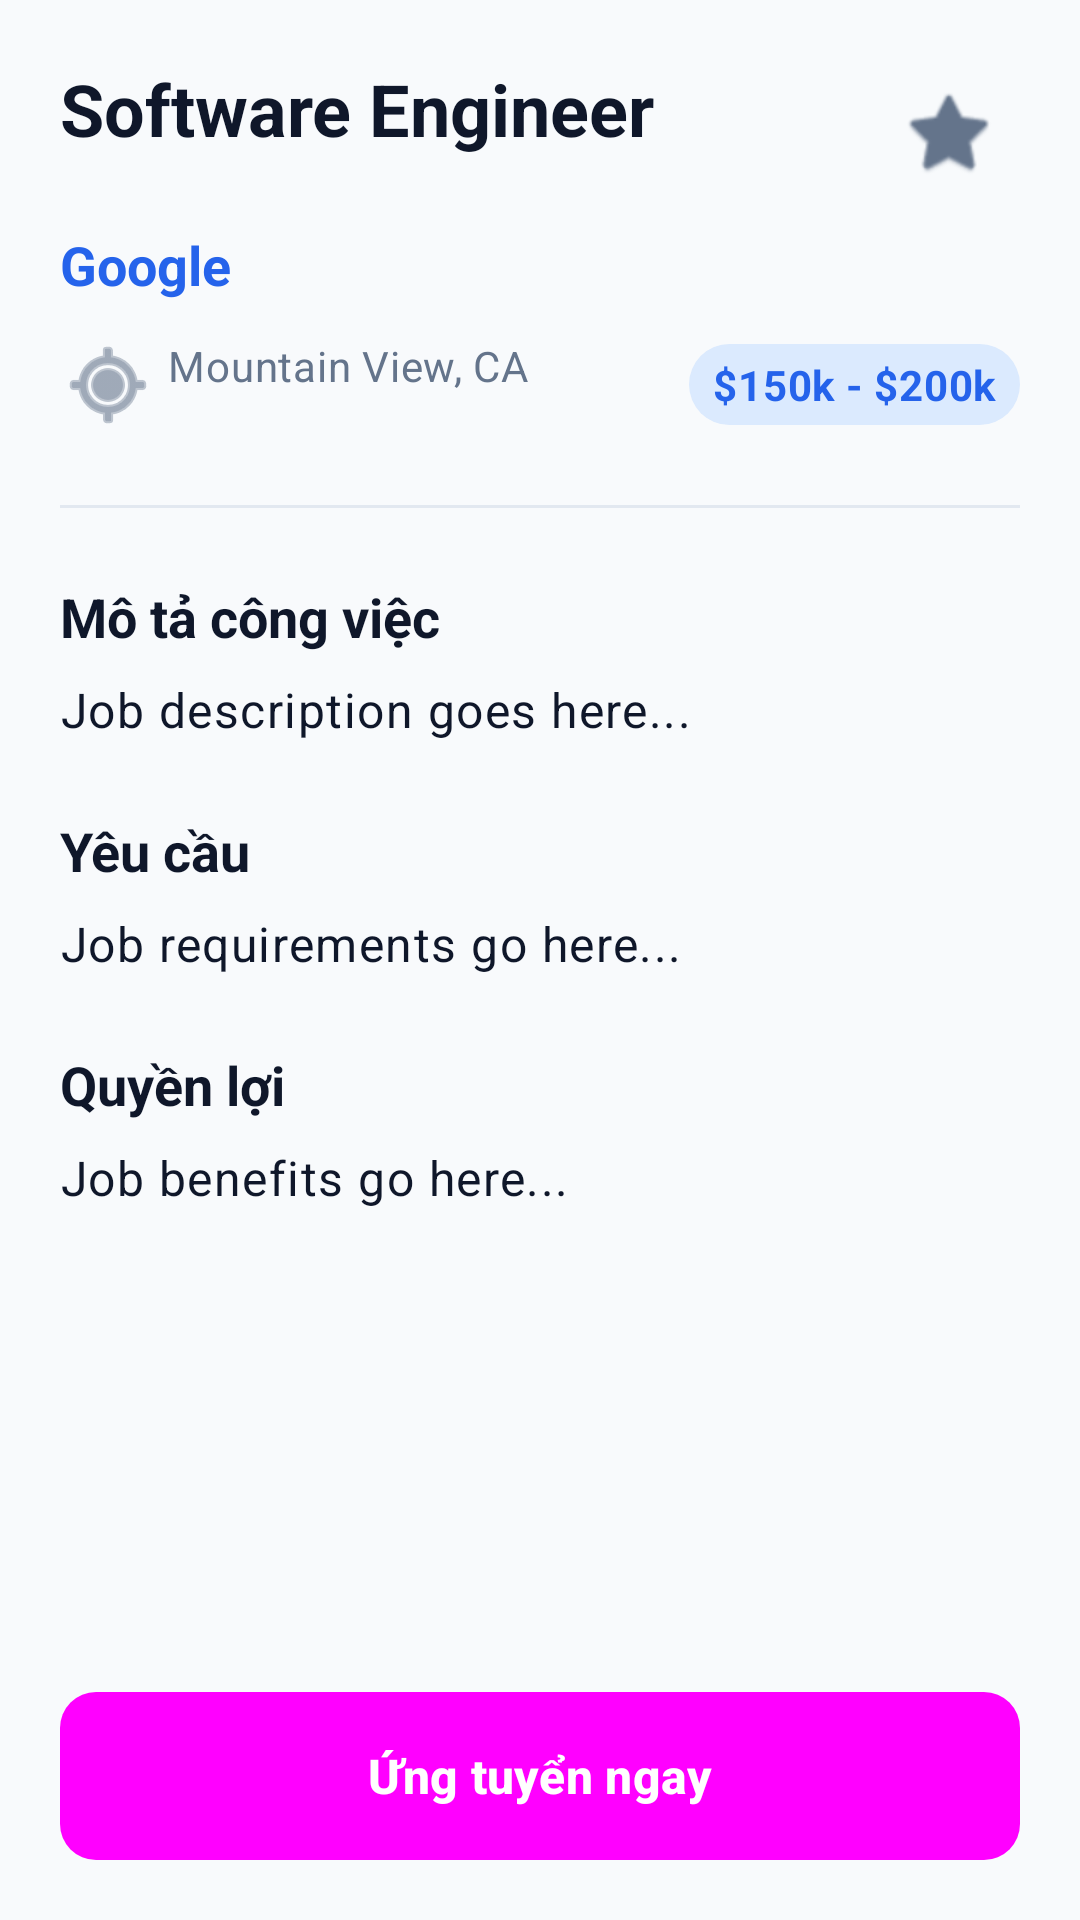

Screen size 1080 x 1920. Icon name, then its box in pixels as (x1, y1, x2, y2):
star off: (909, 94, 989, 171)
